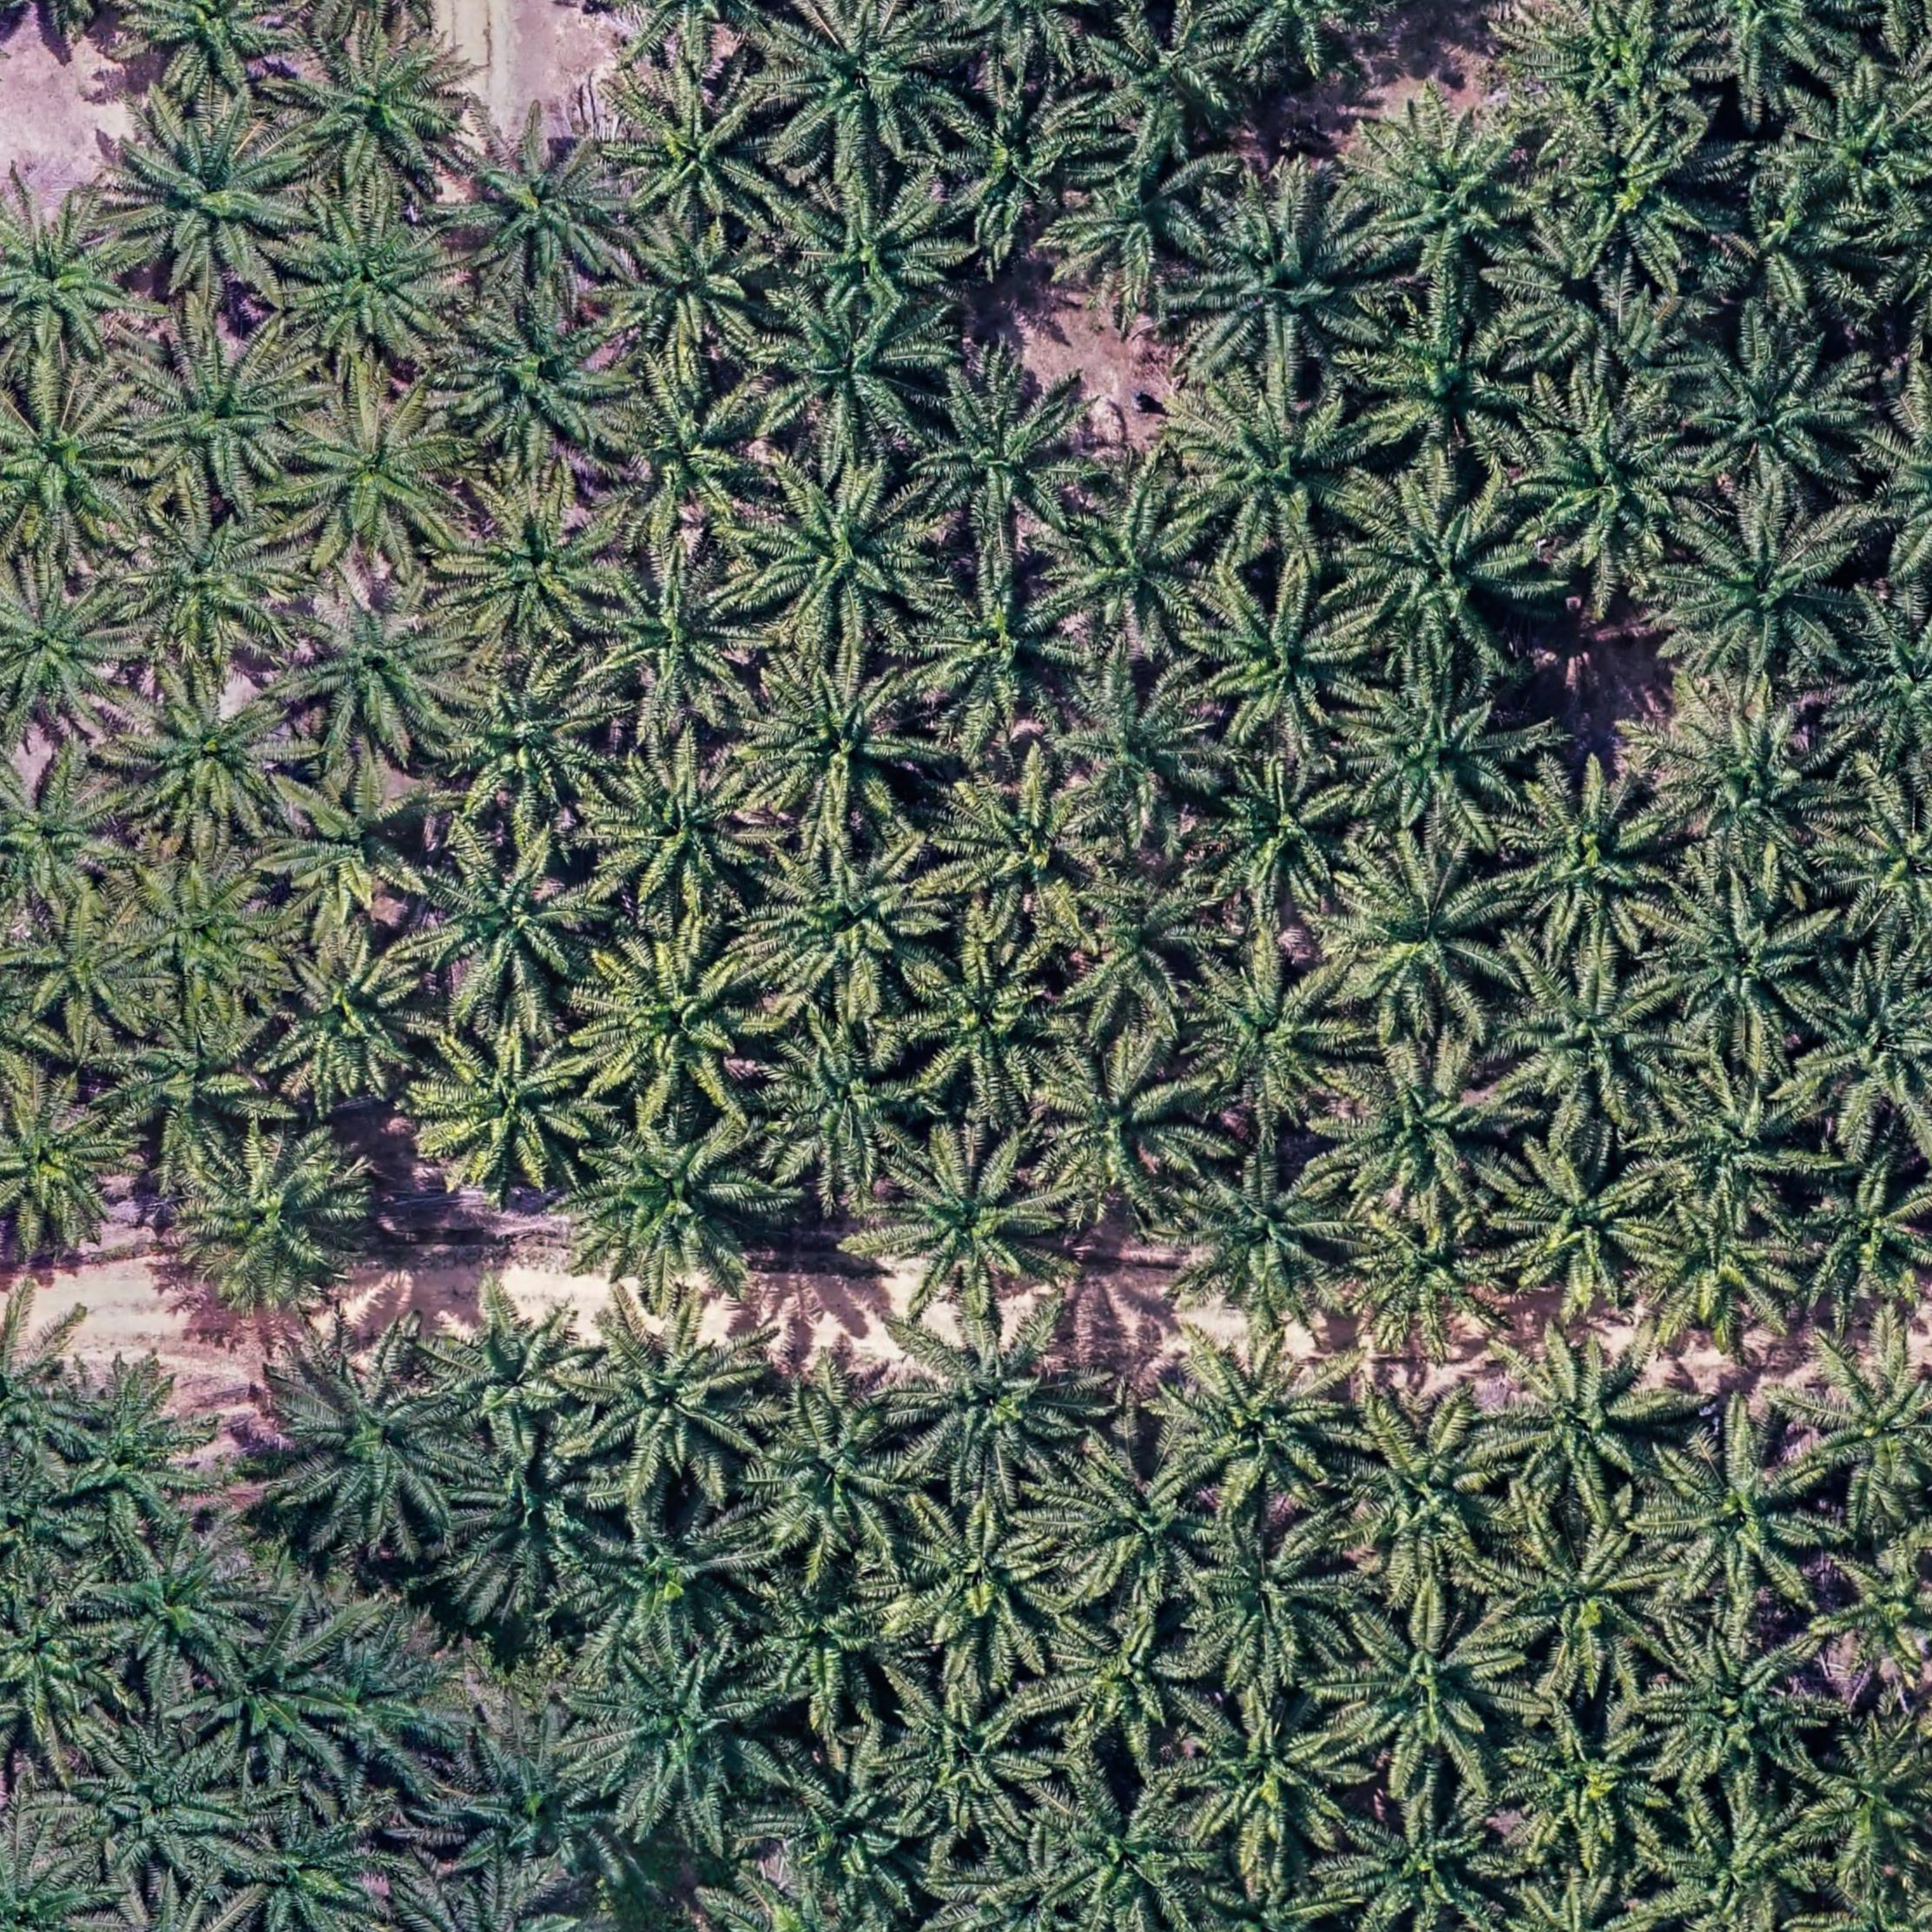palmtree: (1171, 186, 1391, 393), (1334, 472, 1546, 676), (563, 1292, 777, 1491), (168, 1125, 384, 1323), (1173, 372, 1387, 568), (738, 646, 950, 842), (568, 929, 778, 1125), (262, 1359, 474, 1553), (111, 101, 318, 299), (1644, 688, 1852, 885), (743, 835, 954, 1028), (740, 455, 945, 649), (1654, 497, 1865, 686), (1316, 1031, 1527, 1219), (566, 1106, 777, 1293), (888, 1311, 1099, 1499), (1162, 1139, 1366, 1330), (1483, 1325, 1688, 1514), (409, 833, 616, 1021), (1509, 393, 1706, 587), (1341, 103, 1541, 294), (1640, 1422, 1838, 1614), (1493, 763, 1688, 955), (1329, 844, 1525, 1035), (1327, 1396, 1518, 1591), (1490, 950, 1690, 1136), (1677, 326, 1879, 510), (1159, 1330, 1362, 1513), (906, 361, 1097, 552), (1327, 1596, 1522, 1783), (444, 285, 640, 471), (580, 743, 778, 927), (280, 579, 478, 761), (764, 2, 966, 180), (1187, 568, 1376, 757), (124, 327, 322, 508), (752, 1012, 945, 1196), (579, 1642, 778, 1819), (276, 25, 478, 200), (412, 1016, 610, 1192), (1490, 1127, 1677, 1313), (584, 547, 771, 732), (1640, 1617, 1831, 1799), (1644, 876, 1838, 1054), (1026, 1028, 1212, 1214), (902, 554, 1090, 738), (879, 1665, 1063, 1852), (1490, 1511, 1679, 1693), (879, 1129, 1069, 1311), (1493, 1698, 1683, 1881), (596, 359, 778, 547), (1175, 1690, 1366, 1868), (1338, 667, 1532, 842), (1178, 947, 1366, 1127), (1534, 111, 1721, 292), (885, 1495, 1074, 1674), (1346, 292, 1537, 469), (1178, 1507, 1364, 1688), (895, 932, 1074, 1120), (280, 387, 469, 564), (278, 200, 469, 375), (115, 494, 310, 665), (931, 763, 1115, 943), (446, 479, 635, 655), (743, 1392, 932, 1568), (757, 287, 950, 458), (1040, 476, 1221, 658), (117, 667, 306, 840), (435, 1721, 626, 1893), (1054, 660, 1233, 842), (1638, 1063, 1828, 1235), (257, 932, 441, 1108), (446, 1428, 621, 1612), (451, 129, 640, 299), (1049, 1431, 1230, 1608), (571, 1493, 761, 1660), (260, 763, 441, 936), (435, 658, 617, 830), (740, 1555, 922, 1727), (1194, 750, 1369, 927), (607, 62, 786, 235), (106, 1000, 288, 1169), (62, 1725, 248, 1891), (1044, 863, 1215, 1039), (777, 170, 964, 329), (120, 855, 297, 1023), (1690, 170, 1868, 334), (1334, 1201, 1516, 1362), (1035, 1599, 1212, 1764), (53, 1369, 221, 1541), (761, 1746, 929, 1918), (1631, 1194, 1812, 1353), (1327, 1785, 1518, 1932), (189, 1621, 359, 1785), (934, 76, 1097, 248), (1040, 1769, 1214, 1928), (0, 200, 150, 382), (0, 375, 150, 556), (1798, 1329, 1932, 1529), (1785, 1150, 1932, 1332), (99, 1529, 269, 1684), (610, 218, 780, 372), (425, 1304, 598, 1454), (1649, 1794, 1831, 1932), (1058, 152, 1224, 301), (1803, 959, 1932, 1148), (0, 566, 142, 736), (0, 1085, 140, 1256), (0, 752, 134, 925), (12, 899, 168, 1044), (1780, 73, 1932, 216), (1500, 0, 1690, 115), (1801, 1721, 1932, 1886), (232, 1806, 402, 1932), (1093, 14, 1244, 156), (304, 1642, 455, 1782), (1675, 0, 1872, 104), (1826, 780, 1932, 970), (0, 1585, 124, 1744), (122, 0, 308, 104), (1812, 1537, 1932, 1697), (0, 1789, 124, 1932), (0, 1306, 96, 1477), (1851, 582, 1932, 768), (1874, 375, 1932, 564)
